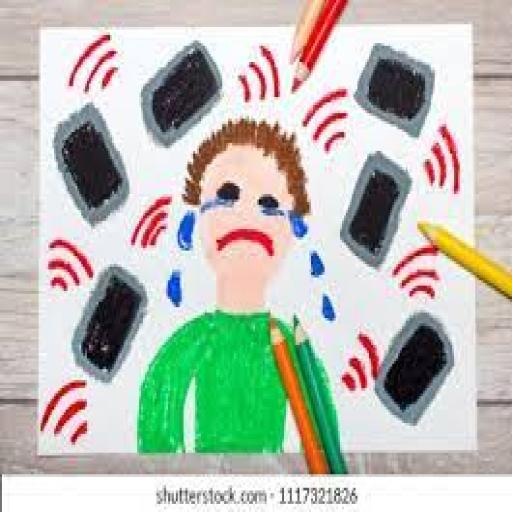person: (160, 106, 336, 455)
